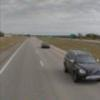cars: (64, 51, 100, 82)
